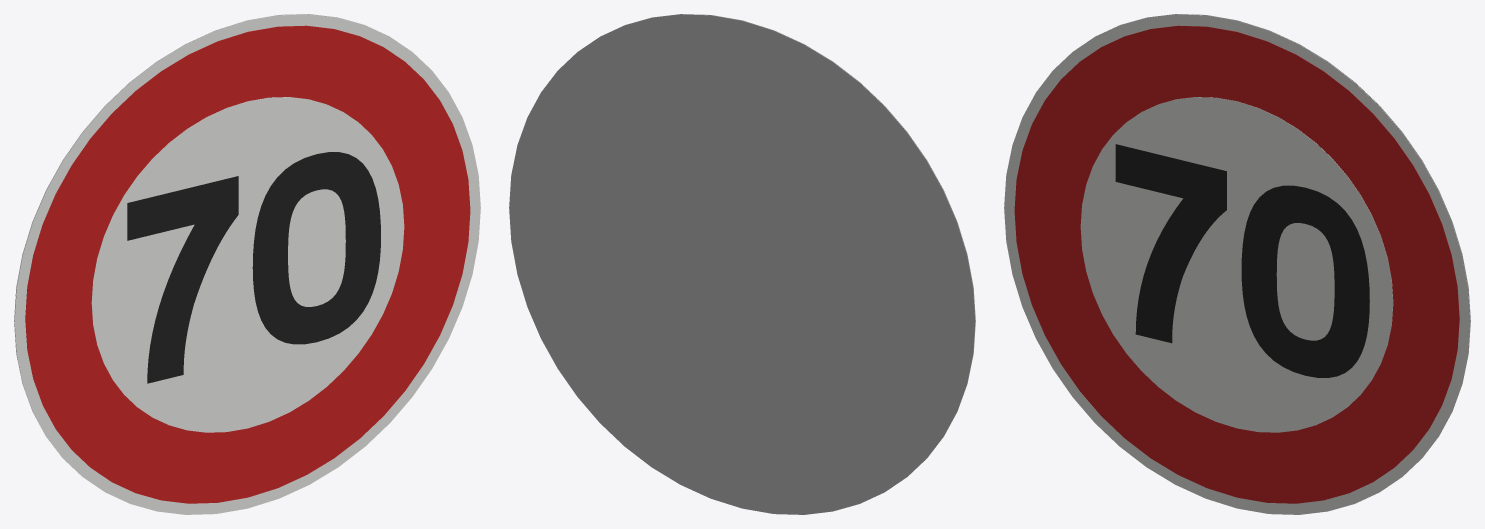
The picture shows the model from 3 angles, left to right: view 1: azimuth 30°, elevation 25°; view 2: azimuth 150°, elevation 25°; view 3: azimuth 330°, elevation 25°; orthographic projection.
Parts seen in each view (by area): view 1: B14-70_p01, B14-70_p02, B14-70_p00, B14-70_p03, B14-70_p04, B14-70_dos; view 2: B14-70_dos, B14-70_p00; view 3: B14-70_p01, B14-70_p02, B14-70_p00, B14-70_p03, B14-70_p04, B14-70_dos.
Part boxes in pixels (x1,y1,x2,y2): B14-70_p01: [25, 25, 470, 503]; B14-70_p02: [91, 97, 404, 432]; B14-70_p00: [14, 14, 480, 514]; B14-70_p03: [252, 152, 380, 344]; B14-70_p04: [127, 176, 238, 383]; B14-70_dos: [14, 14, 385, 473]; B14-70_dos: [509, 14, 975, 514]; B14-70_p00: [604, 14, 975, 473]; B14-70_p01: [1014, 25, 1459, 503]; B14-70_p02: [1080, 97, 1393, 432]; B14-70_p00: [1004, 14, 1470, 514]; B14-70_p03: [1241, 185, 1369, 377]; B14-70_p04: [1115, 144, 1226, 343]; B14-70_dos: [1099, 14, 1470, 473].
Size of the model in its own units: 0.85 by 0.8498 by 0.0035.
